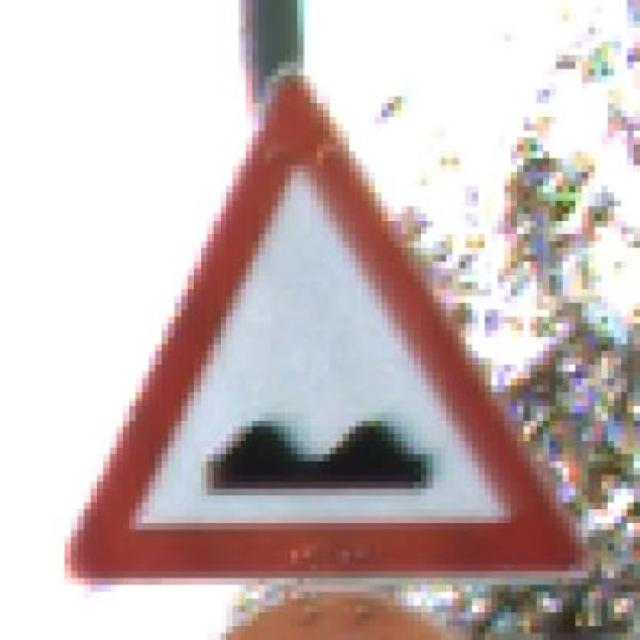Uneven Road: (59, 61, 602, 598)
